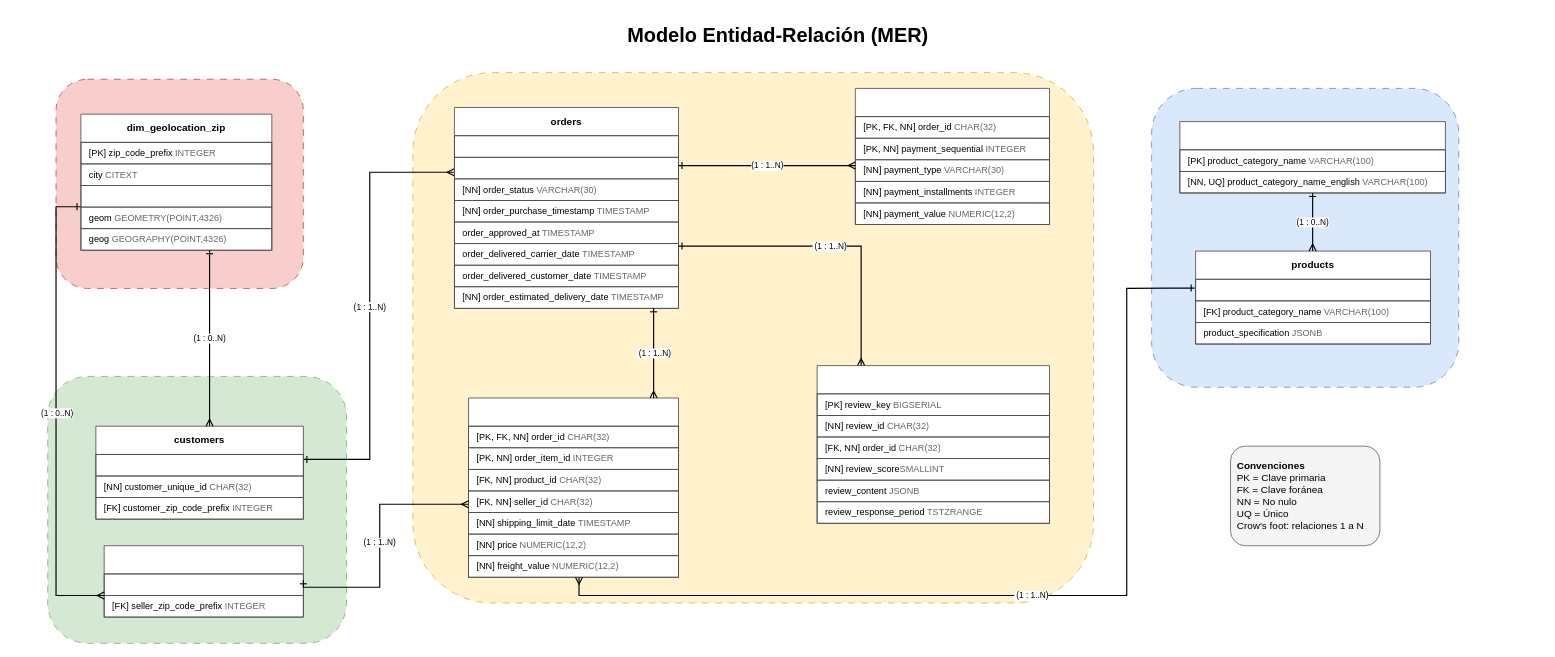
Image size: 1555x657. Some labels were removed from this diagram. The box of each missing label's shape, as (x1, y1, x2, y2) in pixels:
[FK, NN] customer_id CHAR(32): (454, 156, 679, 179)
[NN] state CHAR(2): (80, 185, 272, 207)
[PK] customer_id CHAR(32): (95, 454, 303, 476)
[PK] order_id CHAR(32): (454, 135, 679, 157)
[PK] product_id CHAR(32): (1195, 278, 1431, 301)
[PK] seller_id CHAR(32): (103, 573, 303, 596)
Catálogo de Productos: (1151, 88, 1459, 387)
Clientes, Vendedores: (47, 376, 347, 643)
Geografía: (55, 78, 303, 288)
order_items: (468, 397, 679, 577)
order_payments: (854, 88, 1050, 225)
order_reviews: (816, 365, 1050, 523)
product_categories: (1179, 121, 1445, 193)
sellers: (103, 545, 303, 617)
Órdenes y Transacciones: (412, 72, 1094, 603)
